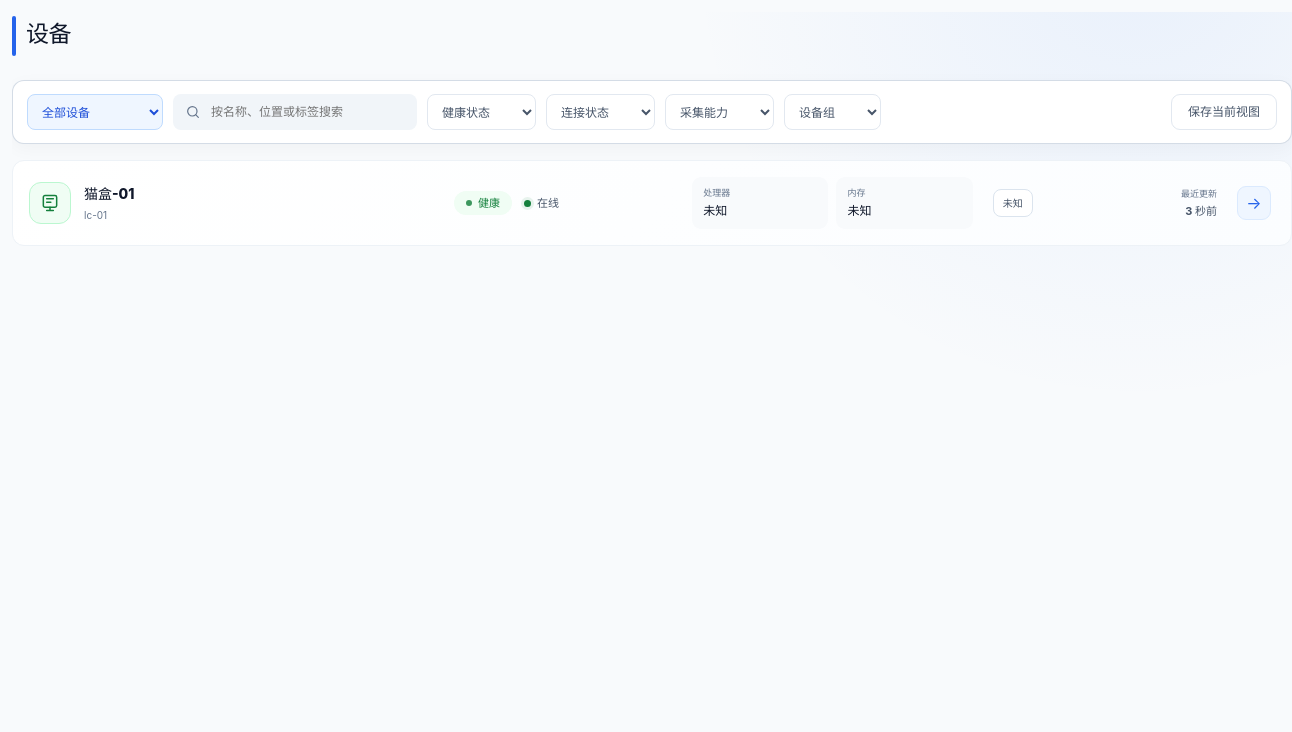
Scenario: DevicesPage detail tabs › uses four independently scrollable resource cards without a duplicate matrix
Step 1. Click the button with class "row-link" → (109, 194), box top-left (84, 183), bottom-right (134, 204)
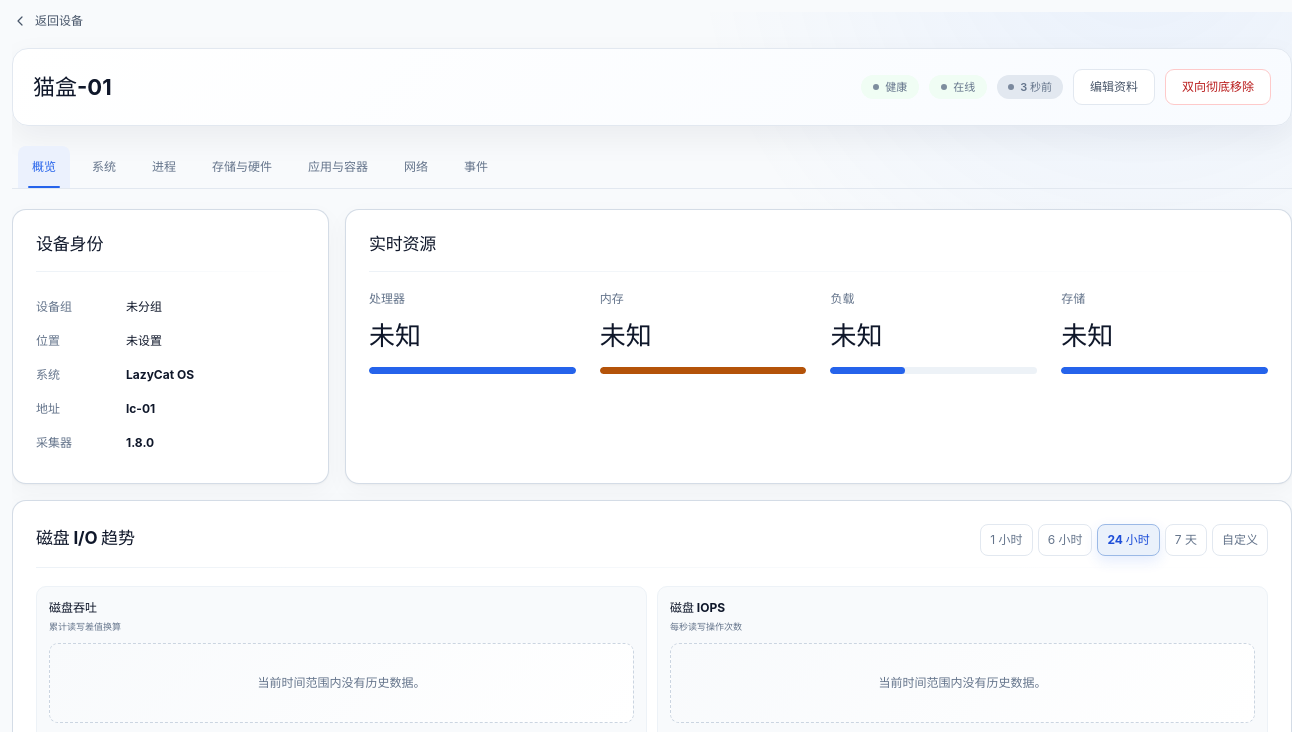
Step 2. Click the tab with id "device-tab-apps" → (338, 167), box top-left (294, 146), bottom-right (382, 188)
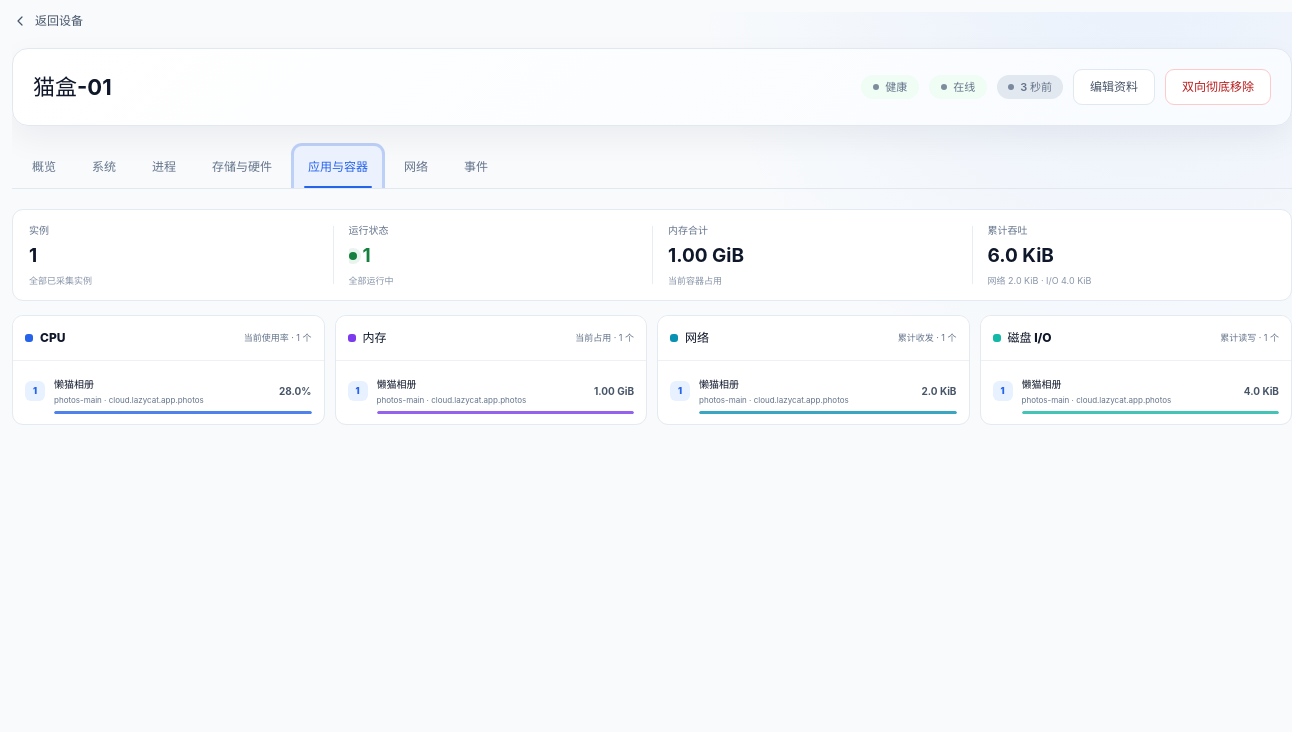
Expected: the element with class "resource-ranking-board" is shown, top-left (12, 209), bottom-right (1291, 425)
Expected: the number of elements with class "resource-ranking-column" is 4, top-left (12, 315), bottom-right (324, 425); top-left (334, 315), bottom-right (647, 425); top-left (657, 315), bottom-right (970, 425); top-left (980, 315), bottom-right (1291, 425)
Expected: the number of elements with class "resource-ranking-list" is 4, top-left (25, 378), bottom-right (312, 414); top-left (348, 378), bottom-right (634, 414); top-left (670, 378), bottom-right (956, 414); top-left (992, 378), bottom-right (1279, 414)
